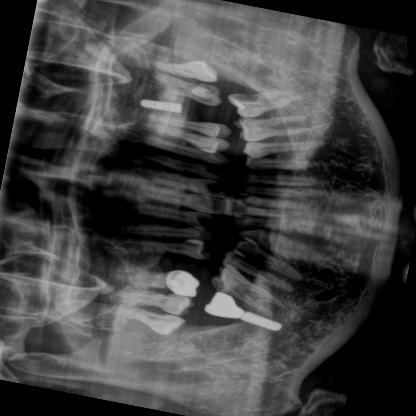ITI: (236, 308, 283, 331), (136, 93, 186, 114)
